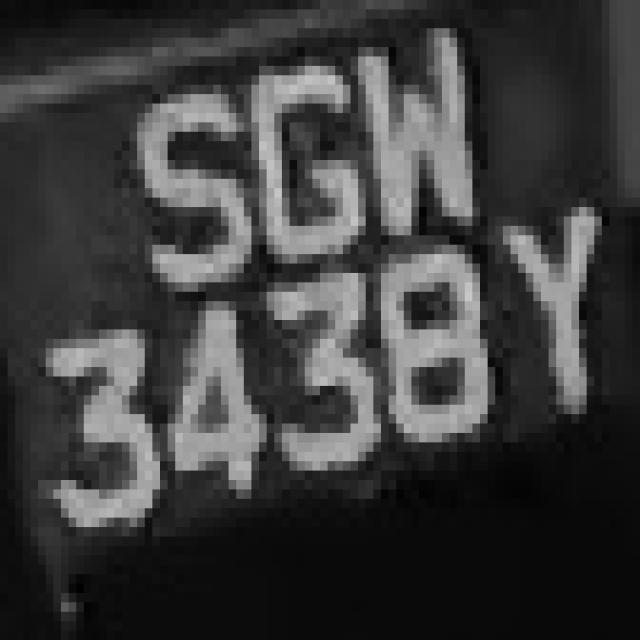3: (252, 254, 388, 499), (38, 301, 168, 555)
4: (130, 301, 266, 518)
8: (373, 235, 503, 452)
G: (228, 19, 374, 320)
S: (114, 84, 259, 310)
V: (350, 19, 480, 263)
Y: (465, 169, 602, 452)
